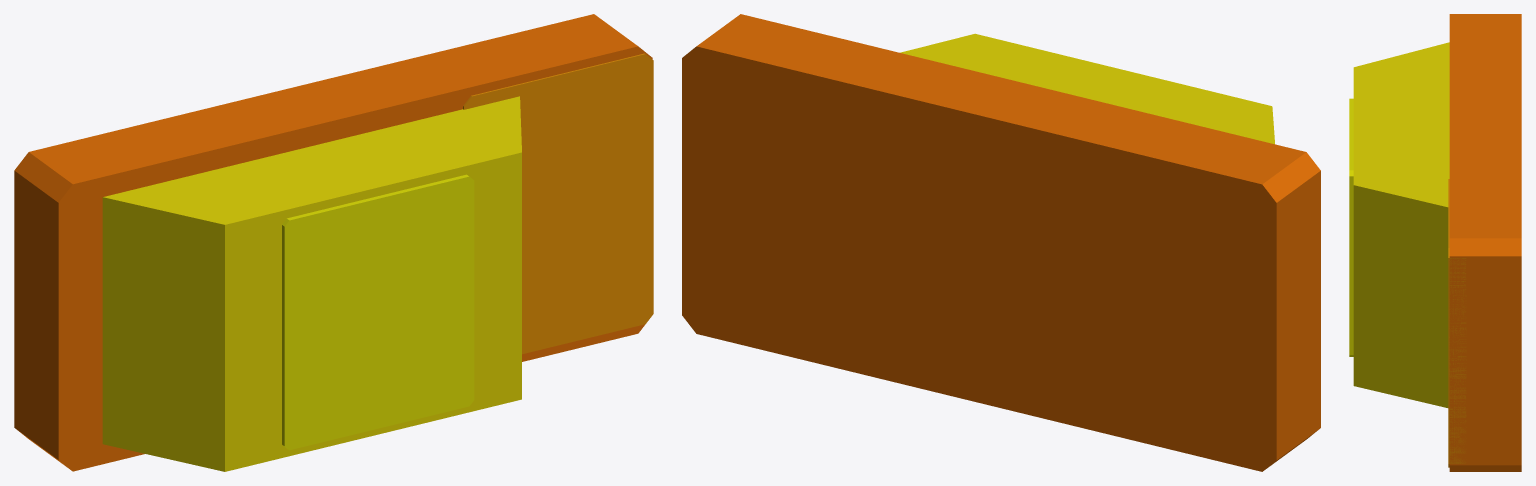
Rendered from SM_TransitSystemV1_CarHatchback_Paint.obj.
The picture shows the model from 3 angles, left to right: view 1: azimuth 30°, elevation 25°; view 2: azimuth 150°, elevation 25°; view 3: azimuth 270°, elevation 25°; orthographic projection. The views are drawn at different scales.
Visible parts, largest first — view 1: Cabin, LowerBody, RoofPanel, Hood; view 2: LowerBody, Cabin; view 3: LowerBody, Cabin, Hood, RoofPanel.
Boxes of the visible parts, <box> form: Cabin: <box>102,96,521,471</box>; LowerBody: <box>14,14,652,471</box>; RoofPanel: <box>282,174,474,450</box>; Hood: <box>463,53,653,354</box>; LowerBody: <box>682,14,1320,471</box>; Cabin: <box>900,33,1274,144</box>; LowerBody: <box>1449,14,1521,471</box>; Cabin: <box>1353,42,1449,407</box>; Hood: <box>1448,179,1466,467</box>; RoofPanel: <box>1349,98,1353,356</box>.
Size of the model in its own units: 372 by 172 by 115.
